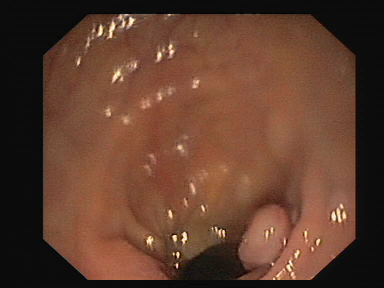polyp: (214, 177, 299, 273)
